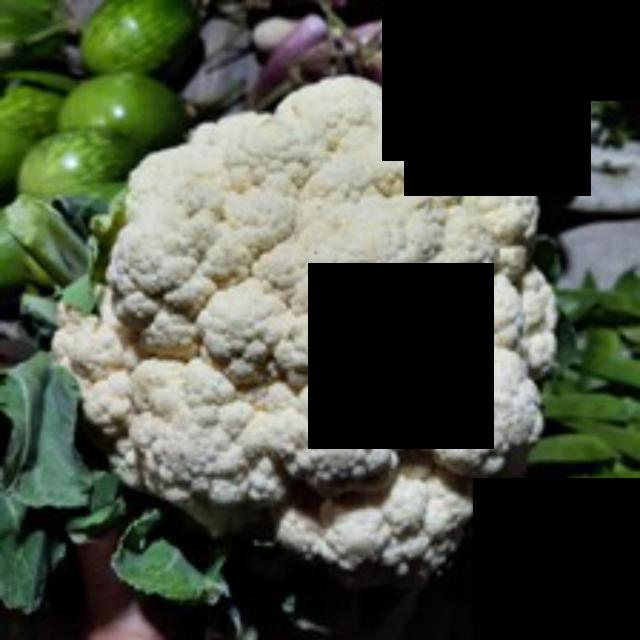cauliflower: (60, 75, 584, 597)
